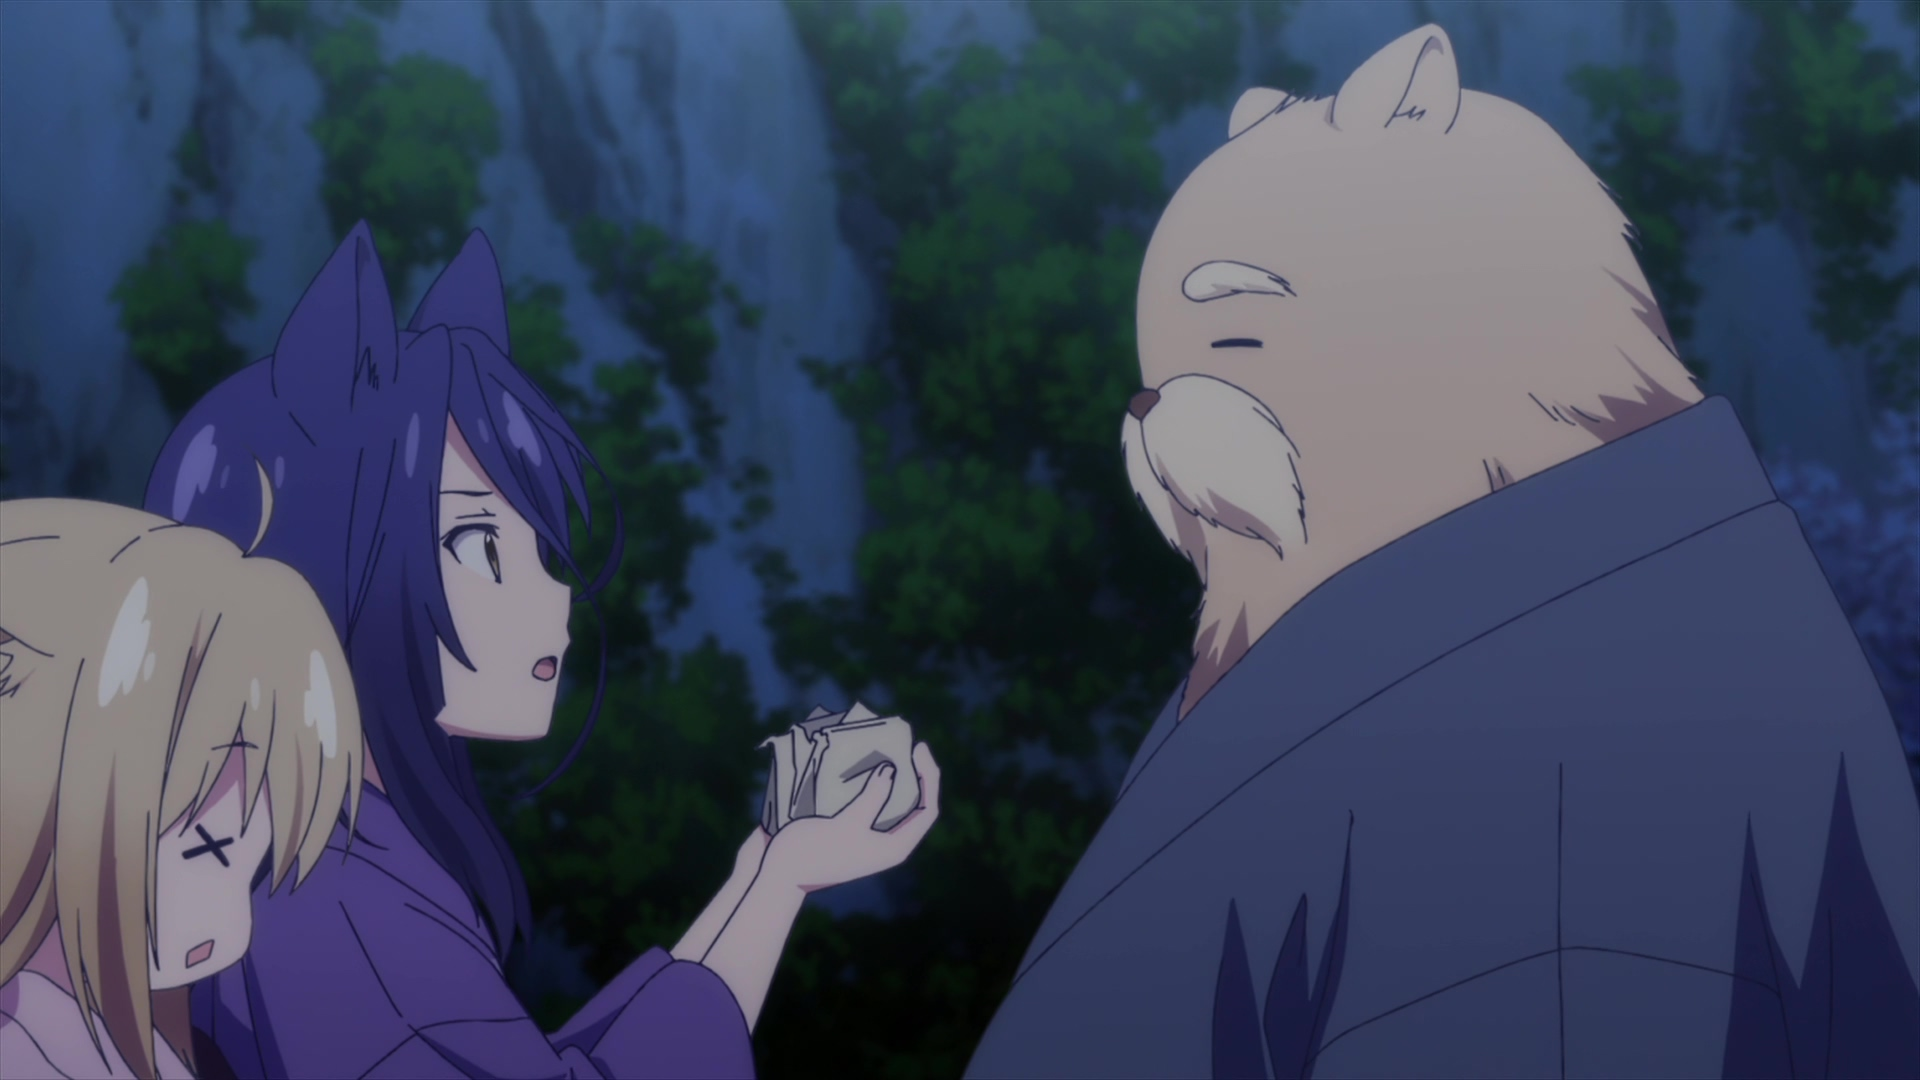柚: (1, 464, 363, 1080)
皋: (141, 220, 938, 1080)
药店老板: (967, 22, 1920, 1080)
